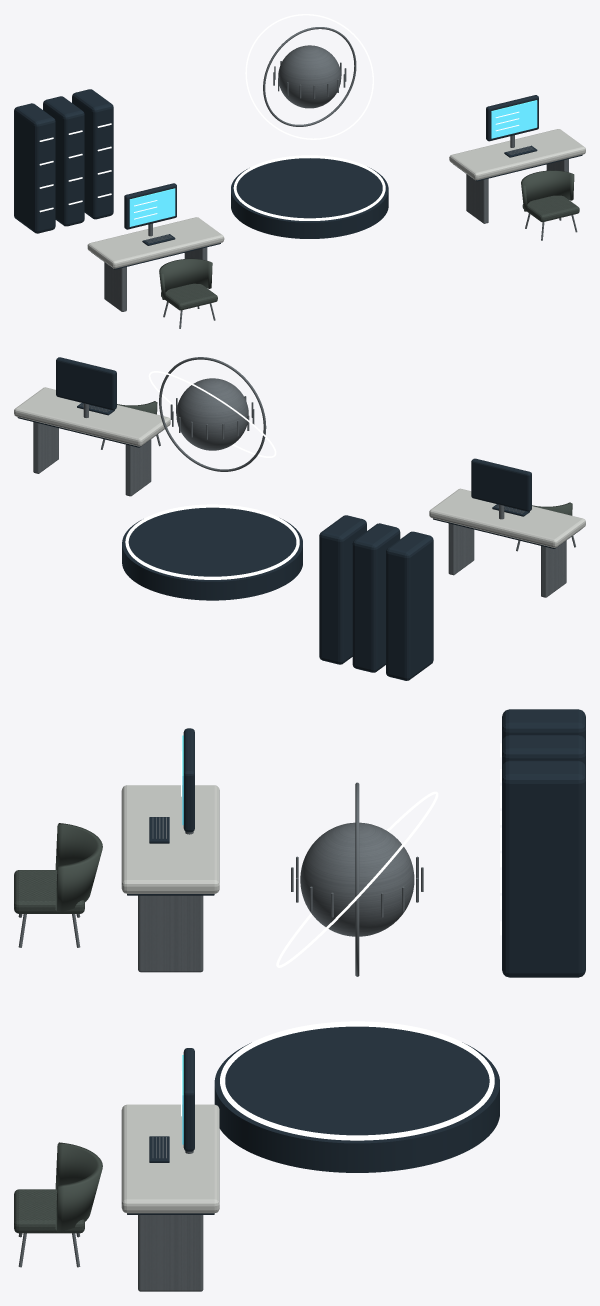
Rendered from technology.glb.
3 views of the same model, one above another, from view 1: azimuth 30°, elevation 25°; view 2: azimuth 150°, elevation 25°; view 3: azimuth 270°, elevation 25° (orthographic). The views are drawn at different scales.
Visible parts, largest first — view 1: Static_technology, Float_Core.001, Spin_OrbitA.001, Spin_OrbitB.001; view 2: Static_technology, Float_Core.001, Spin_OrbitA.001, Spin_OrbitB.001; view 3: Static_technology, Float_Core.001, Spin_OrbitB.001, Spin_OrbitA.001.
Boxes of the visible parts, x1,y1,x2,y2 form: Static_technology: (14,61,585,328); Float_Core.001: (278,45,341,108); Spin_OrbitA.001: (263,27,356,126); Spin_OrbitB.001: (245,14,373,139); Static_technology: (14,357,585,680); Float_Core.001: (176,378,248,450); Spin_OrbitA.001: (159,357,266,471); Spin_OrbitB.001: (148,371,276,457); Static_technology: (14,709,585,1291); Float_Core.001: (300,822,414,936); Spin_OrbitB.001: (276,791,438,967); Spin_OrbitA.001: (355,782,359,976).
Bounding box in the file's own units: 10.6 × 3.84 × 6.13.
8 materials, 3 textured.
